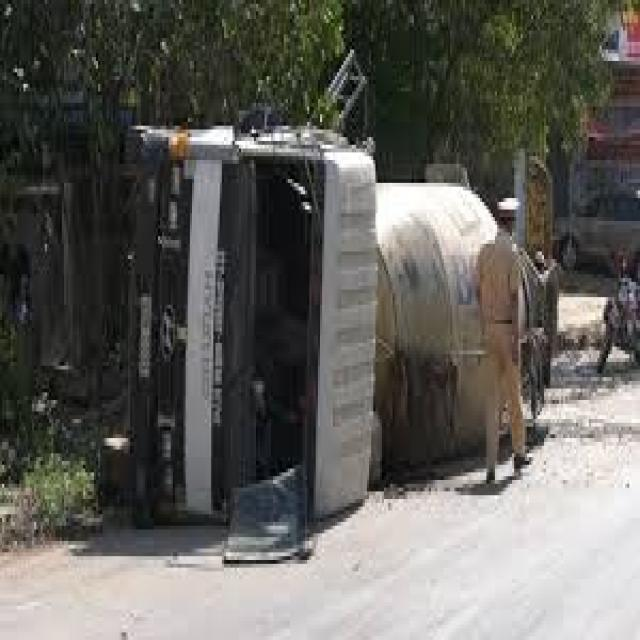accident: (77, 75, 569, 566)
